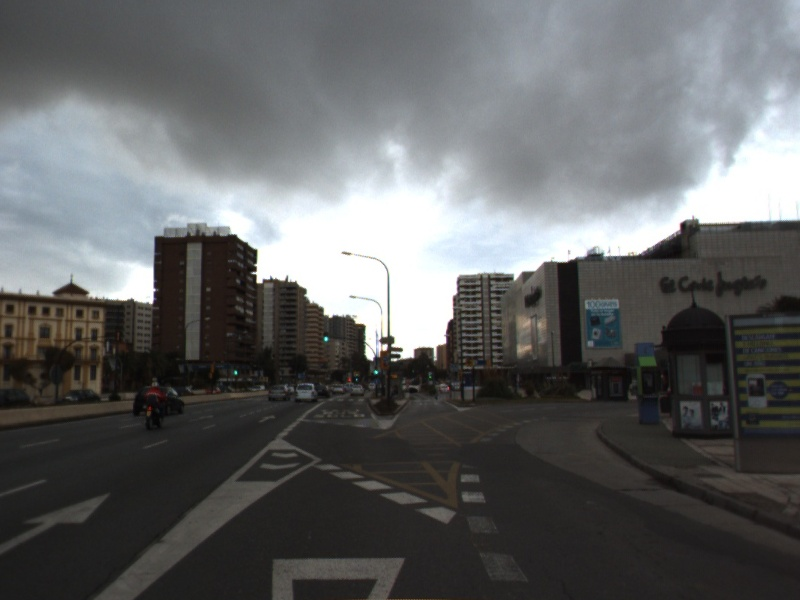STRAIGHT: (1, 488, 116, 554)
